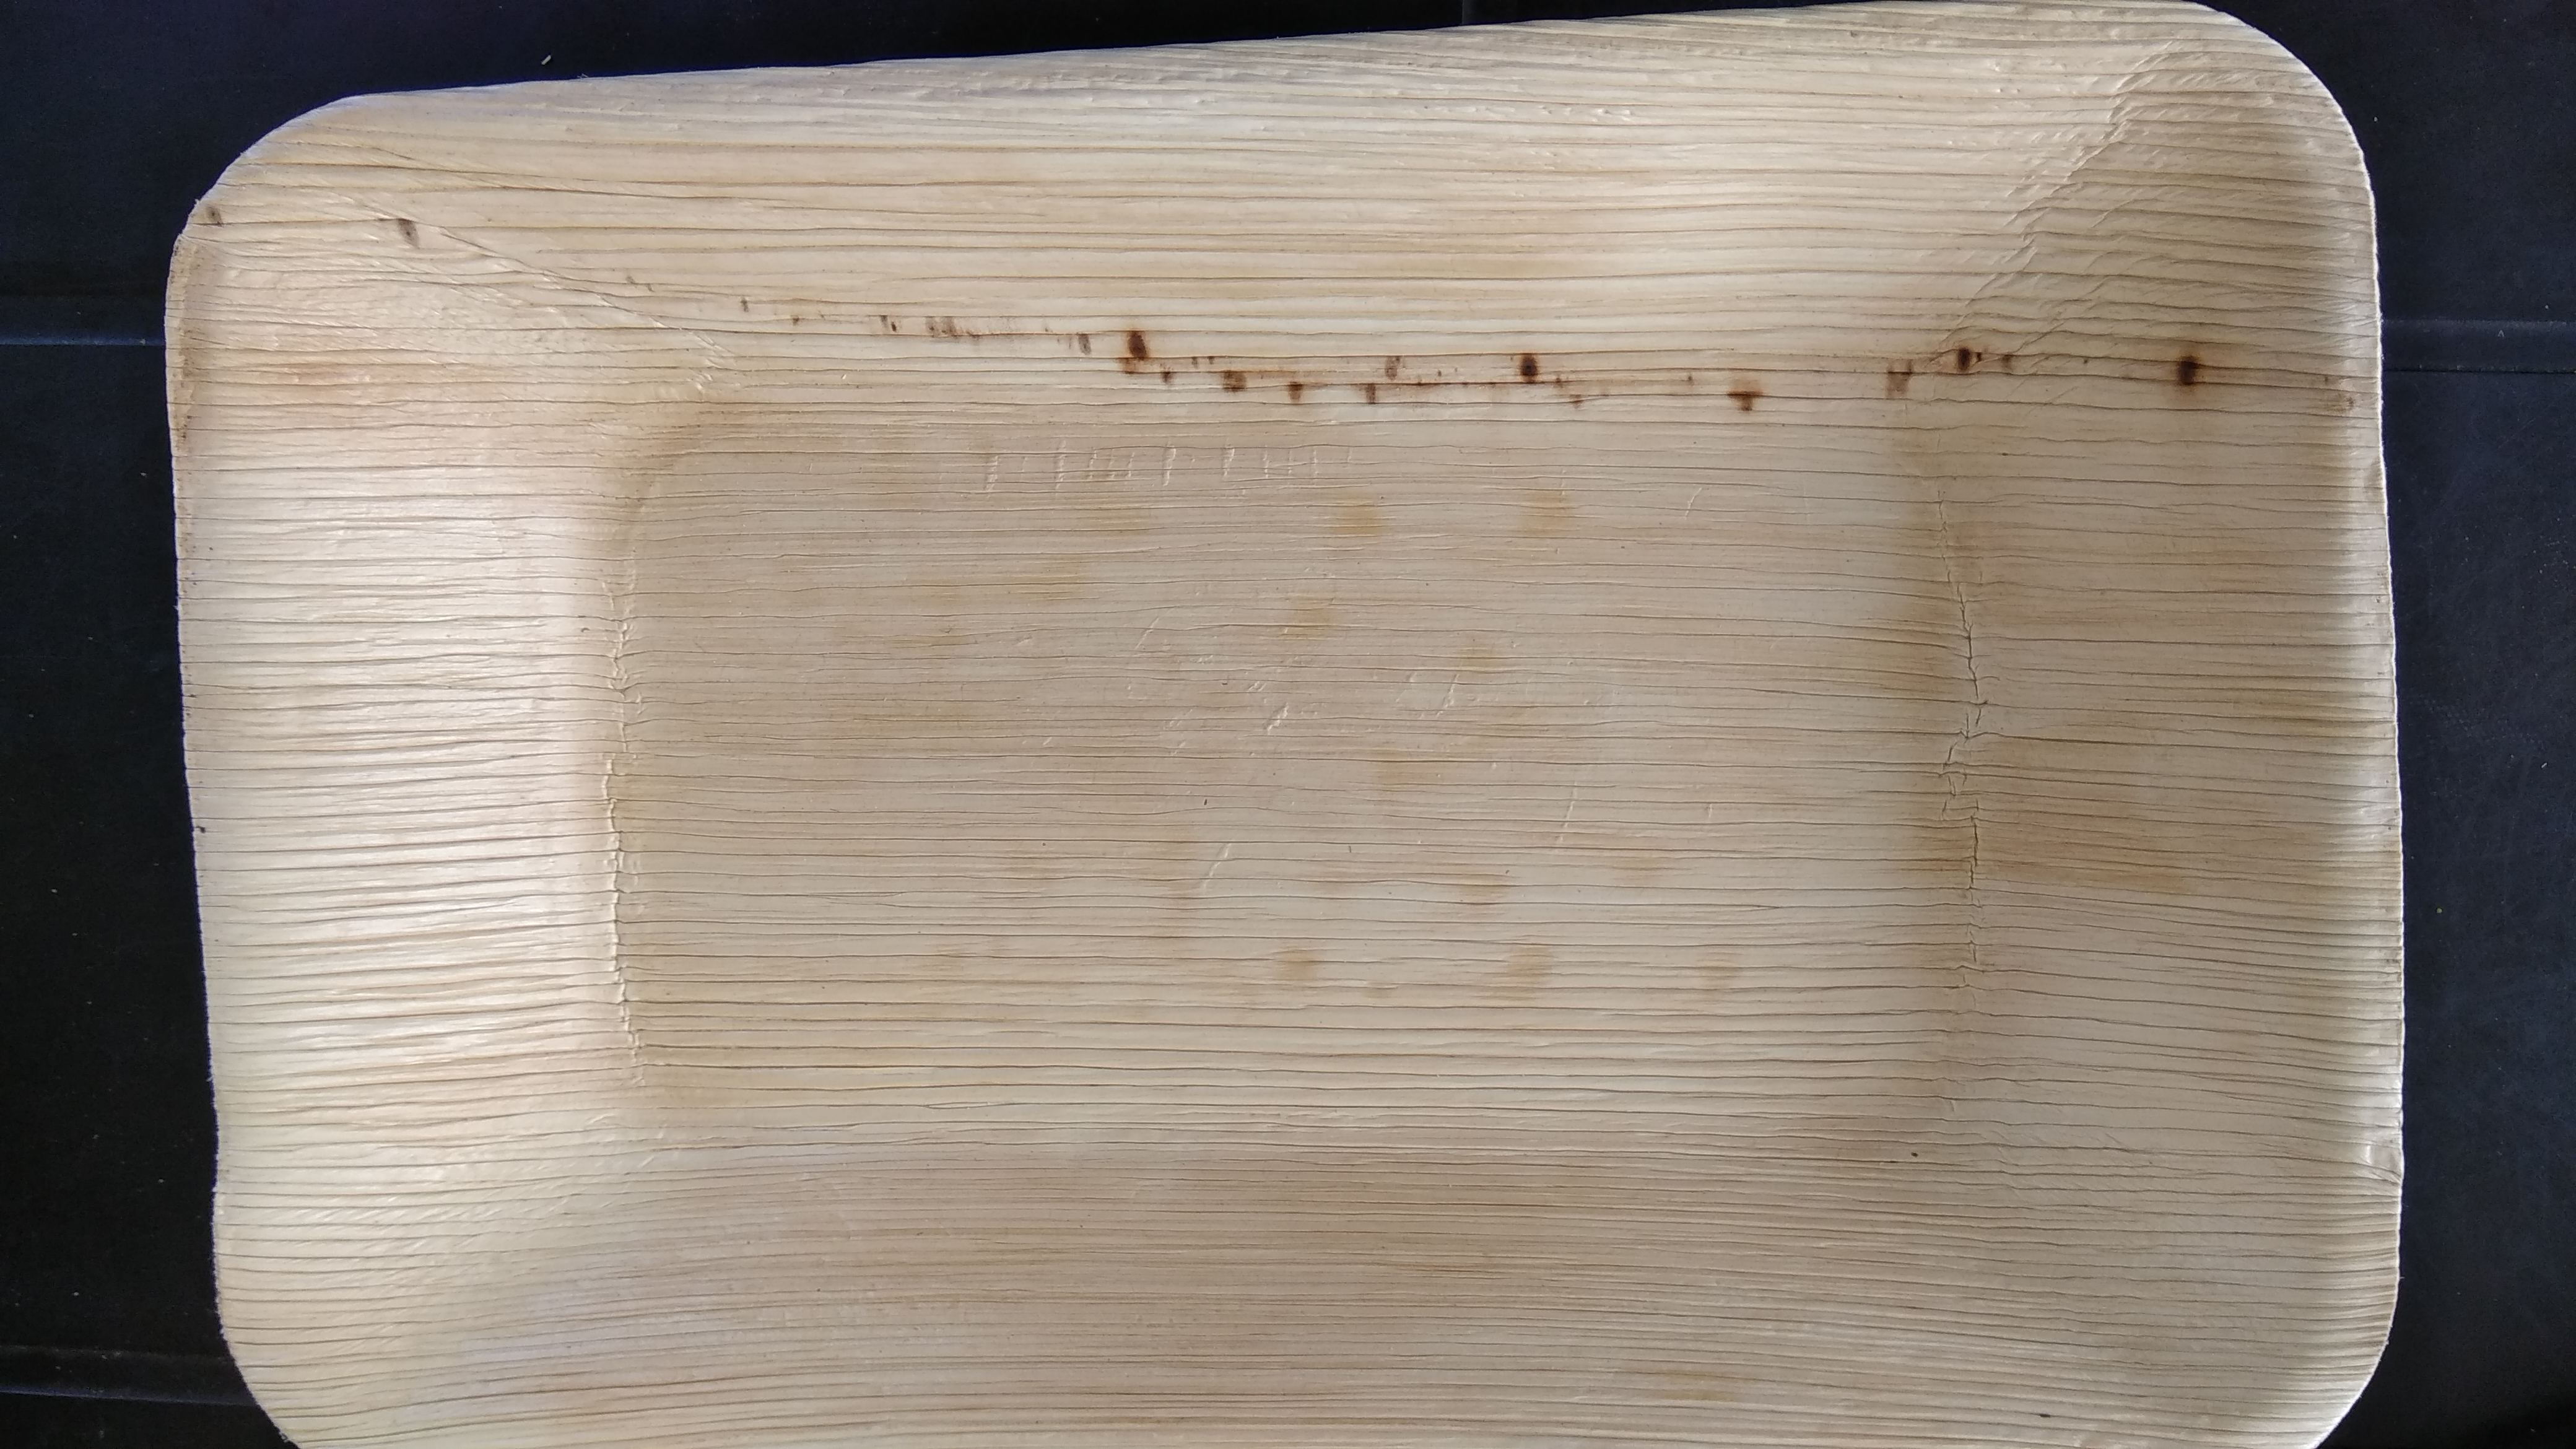areca plate: (186, 67, 2401, 1414)
